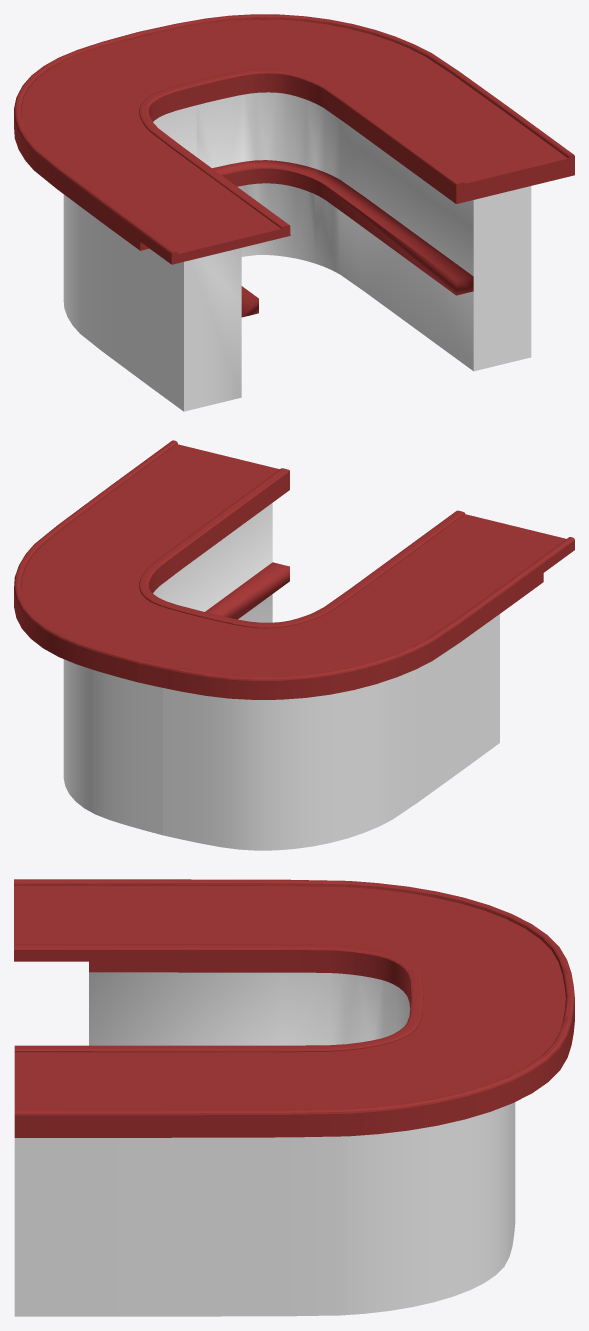
3 views of the same model, one above another, from view 1: azimuth 30°, elevation 25°; view 2: azimuth 150°, elevation 25°; view 3: azimuth 270°, elevation 25° (orthographic). The views are drawn at different scales.
Parts seen in each view (by area): view 1: RoundBar.001; view 2: RoundBar.001; view 3: RoundBar.001.
Boxes of the visible parts, bbox=[...] form: RoundBar.001: bbox=[14, 14, 574, 411]; RoundBar.001: bbox=[14, 440, 574, 850]; RoundBar.001: bbox=[14, 879, 574, 1316].
Size of what is drawn, in the model's own units: 2.42 by 1.1 by 2.45.
Materials: 1 (1 with a texture image).
